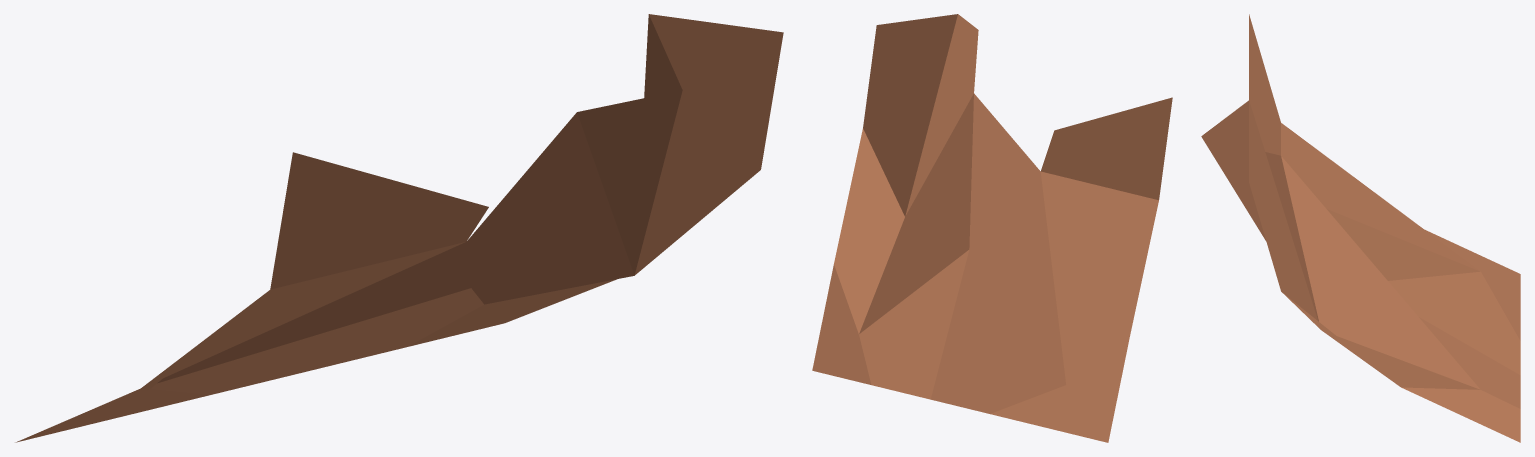
Rendered from Edge Bottom E.fbx.
The picture shows the model from 3 angles, left to right: view 1: azimuth 30°, elevation 25°; view 2: azimuth 150°, elevation 25°; view 3: azimuth 270°, elevation 25°; orthographic projection. The views are drawn at different scales.
Visible parts, largest first — view 1: Edge Bottom E; view 2: Edge Bottom E; view 3: Edge Bottom E.
Part boxes in pixels (x1,y1,x2,y2): Edge Bottom E: (15, 14, 783, 442); Edge Bottom E: (812, 14, 1172, 442); Edge Bottom E: (1201, 14, 1520, 442).
Bounding box in the file's own units: 58.75 × 45 × 40.
